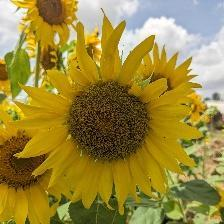sunflower: (13, 21, 205, 217), (1, 121, 56, 224), (15, 1, 81, 47), (141, 46, 200, 95), (37, 43, 64, 72), (71, 41, 101, 65), (186, 92, 206, 125), (91, 24, 101, 45)
